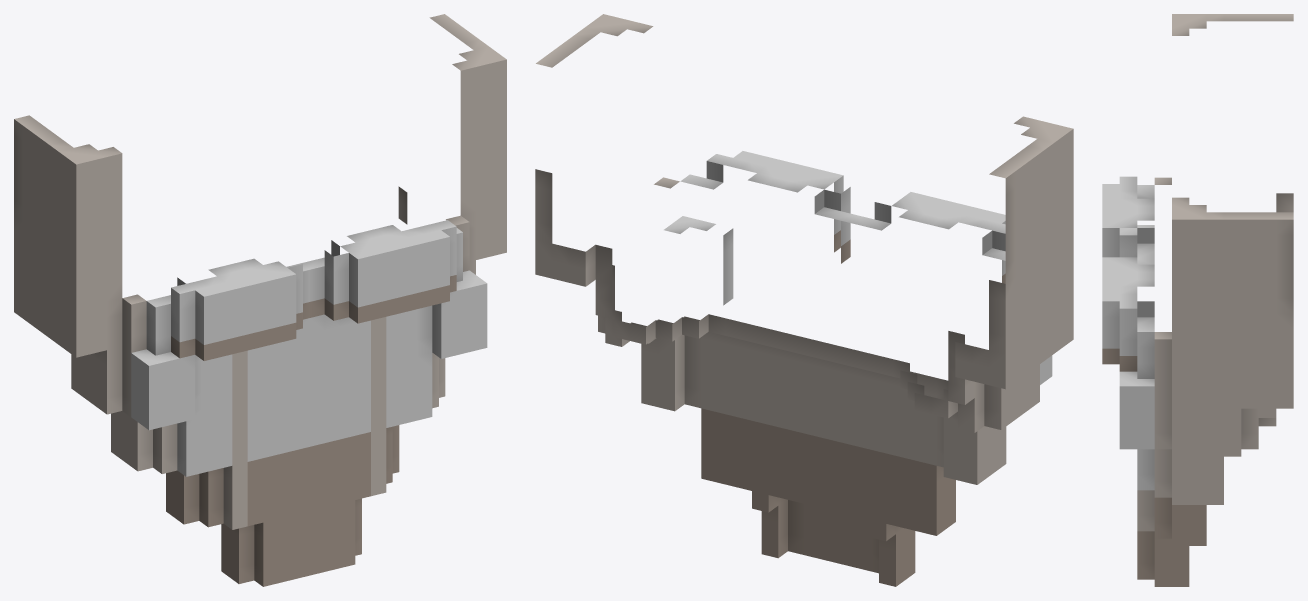
The model's file is beard_full_long.glb.
The picture shows the model from 3 angles, left to right: view 1: azimuth 30°, elevation 25°; view 2: azimuth 150°, elevation 25°; view 3: azimuth 270°, elevation 25°; orthographic projection. The views are drawn at different scales.
Visible parts, largest first — view 1: VoxelVisual; view 2: VoxelVisual; view 3: VoxelVisual.
Boxes of the visible parts, left/top/right/bottom form: VoxelVisual: left=14, top=14, right=506, bottom=586; VoxelVisual: left=535, top=14, right=1073, bottom=586; VoxelVisual: left=1102, top=14, right=1293, bottom=586.
Size of what is drawn, in the model's own units: 1.75 by 1.75 by 0.6875.
